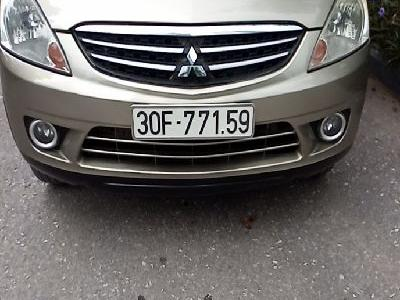car: (129, 104, 254, 139)
